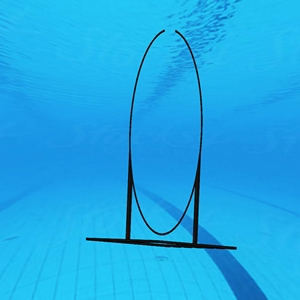circle: (83, 19, 242, 259)
